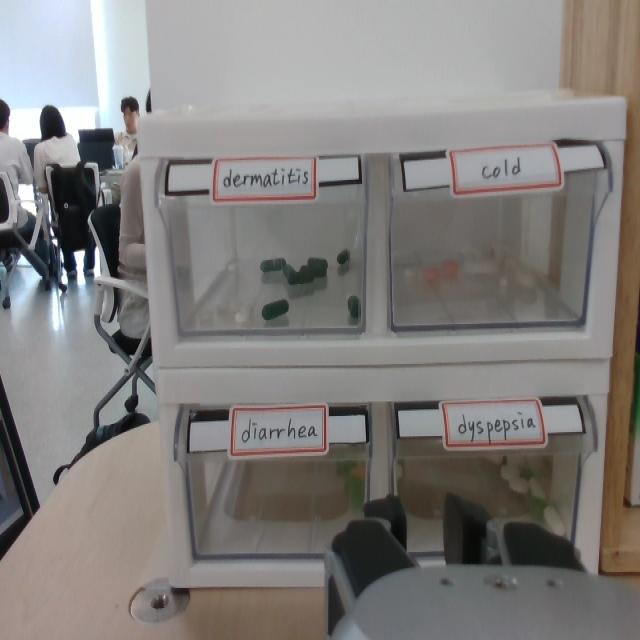text: (454, 409, 542, 441), (220, 165, 312, 192), (238, 417, 324, 444), (479, 154, 529, 182)
